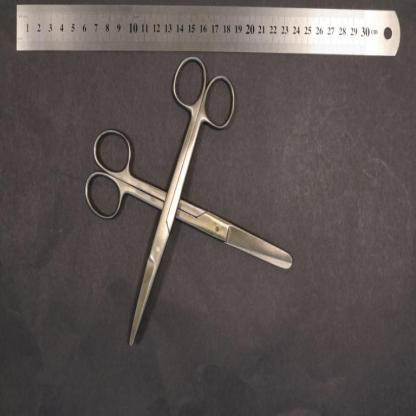Curved Mayo Scissors: (128, 52, 237, 349)
Dressing Scissors: (83, 125, 292, 270)
